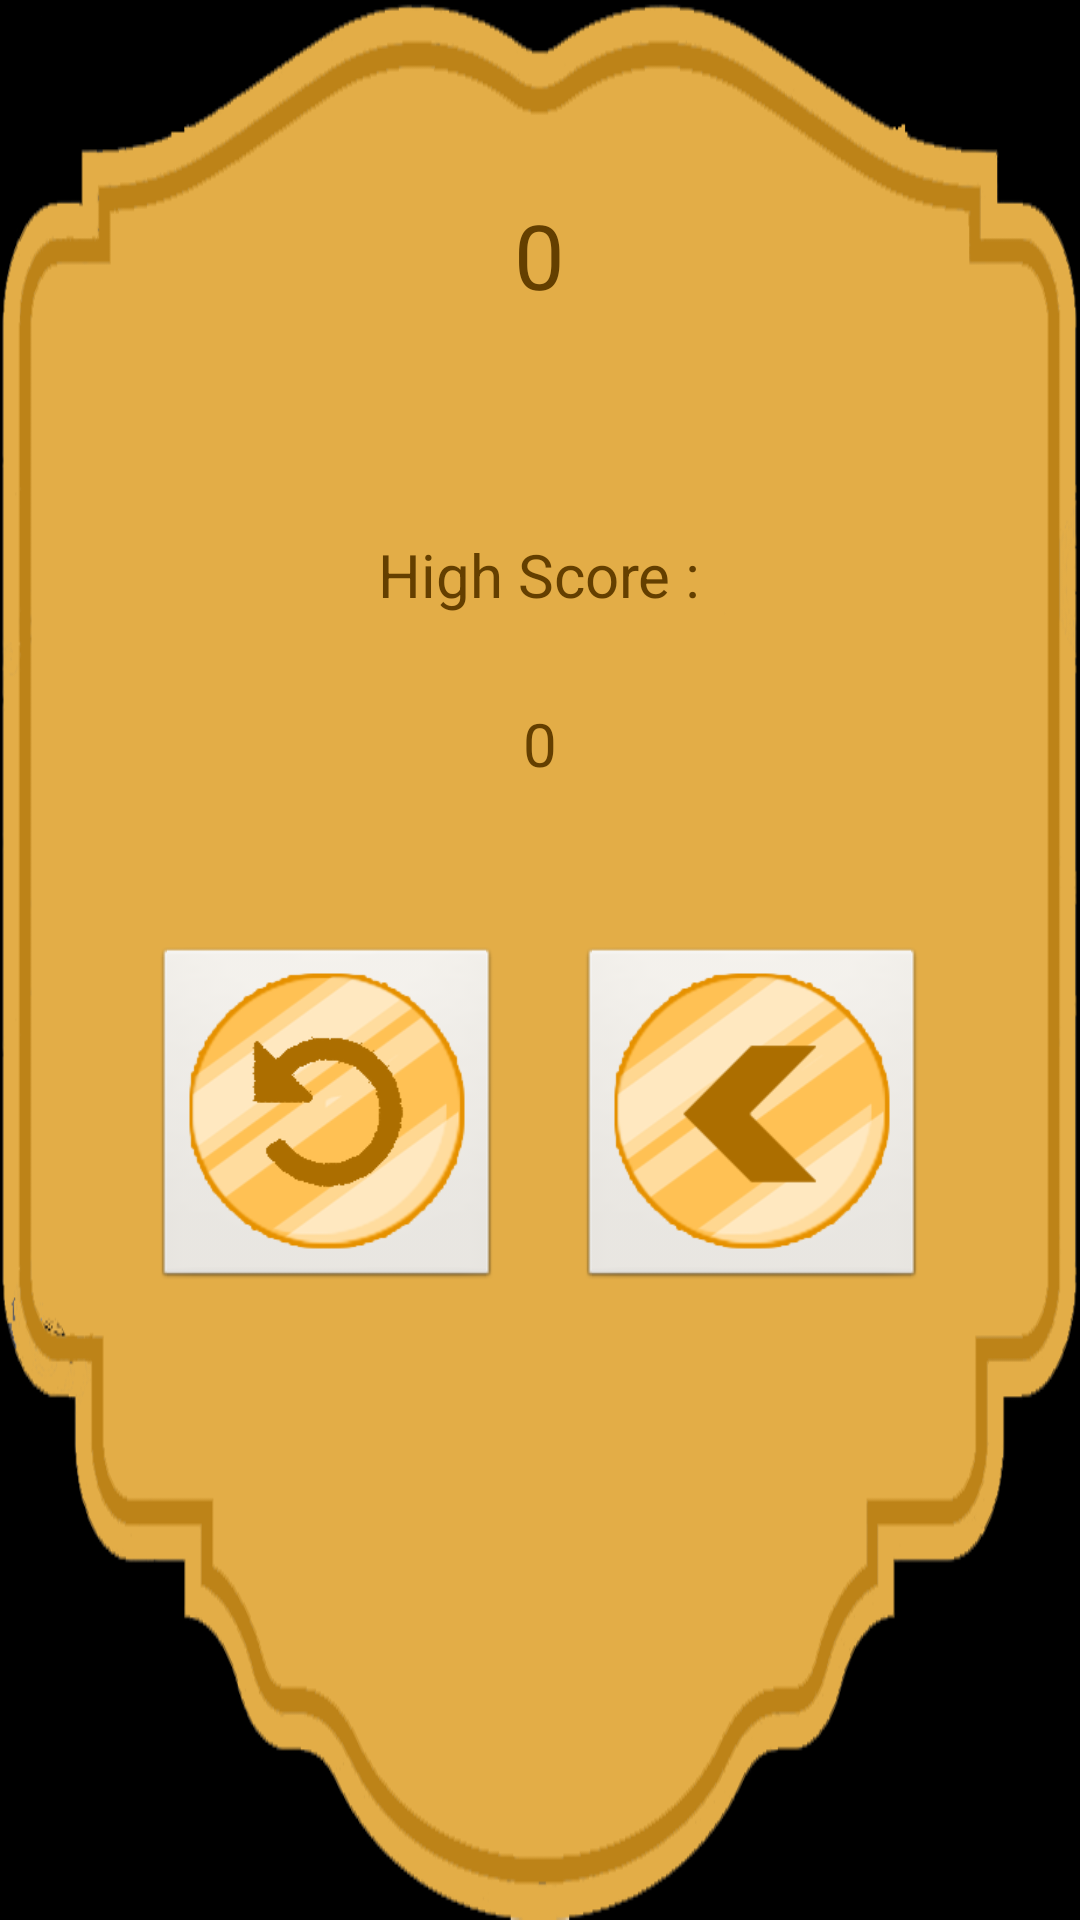

Point at icon controls on the screen. Image size 1080*1920, points as (x=x, y=y).
back: (x=751, y=1113)
replay: (x=326, y=1113)
